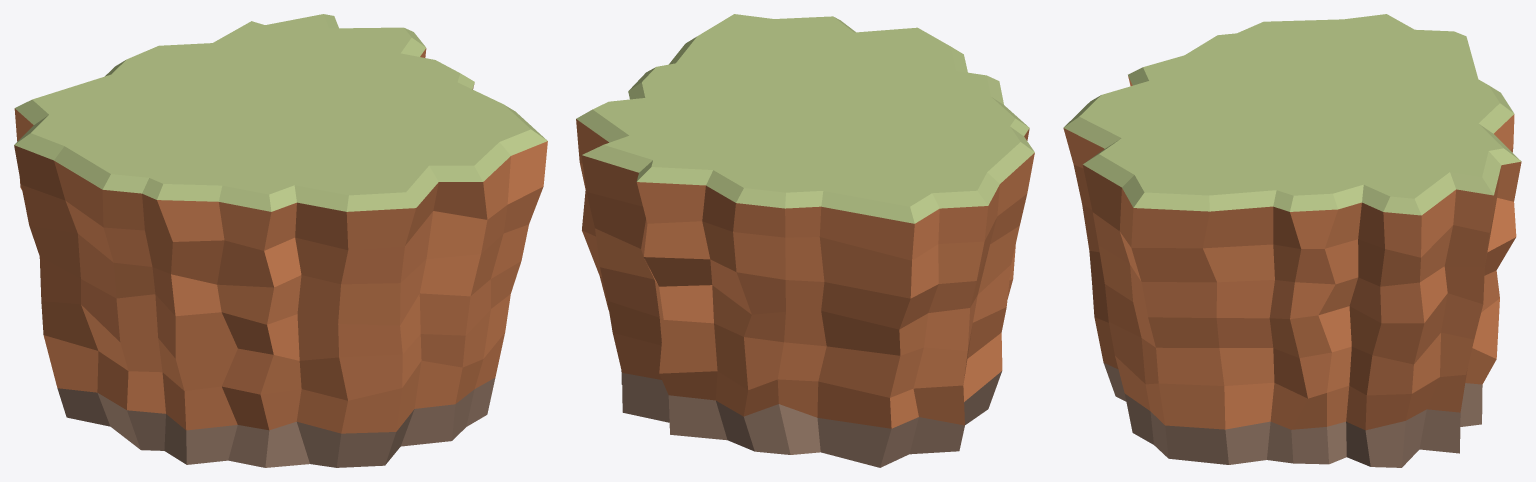
File: cliff02.fbx
The picture shows the model from 3 angles, left to right: view 1: azimuth 30°, elevation 25°; view 2: azimuth 150°, elevation 25°; view 3: azimuth 270°, elevation 25°; orthographic projection. The views are drawn at different scales.
Parts seen in each view (by area): view 1: Plane.008; view 2: Plane.008; view 3: Plane.008.
Part boxes in pixels (x1,y1,x2,y2): Plane.008: (14,14,547,467); Plane.008: (576,14,1034,467); Plane.008: (1063,14,1521,467).
Size of the model in its own units: 897 by 594 by 874.
